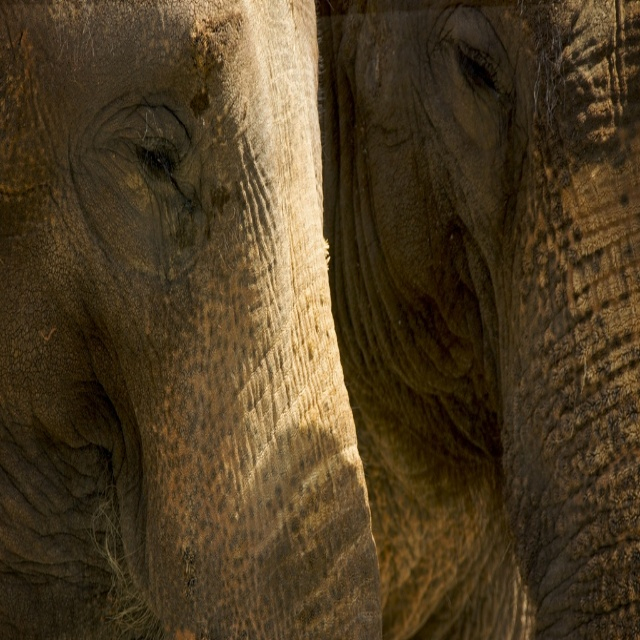Elephant: (0, 0, 625, 633)
